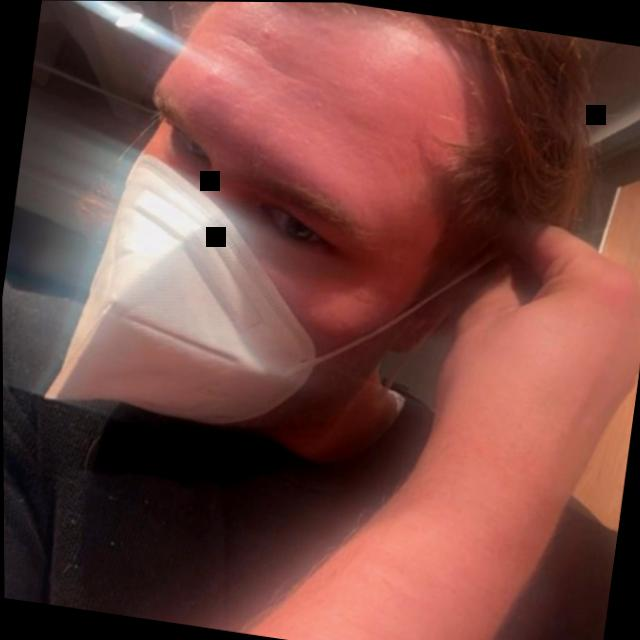Mask: (27, 0, 591, 486)
